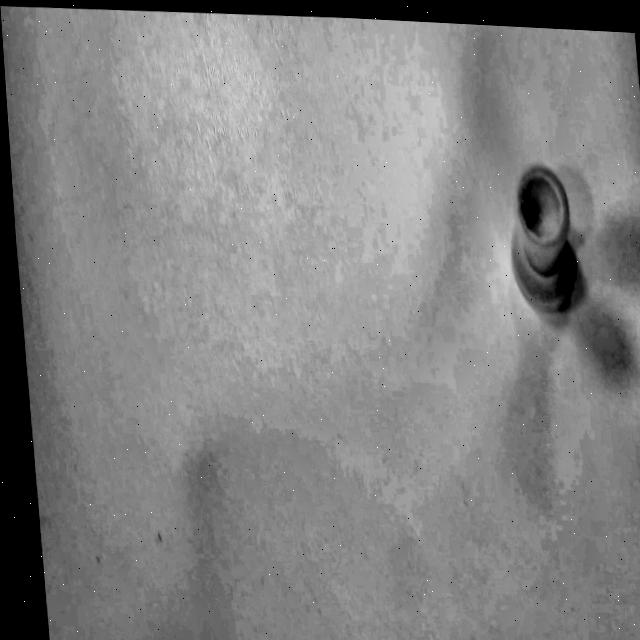white-rook: (482, 128, 616, 355)
